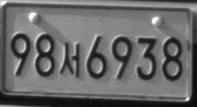3: (135, 36, 157, 80)
6: (84, 35, 107, 78)
8: (33, 32, 55, 77), (161, 36, 183, 81)
9: (110, 35, 133, 80), (9, 31, 31, 76)
서: (58, 41, 80, 78)
